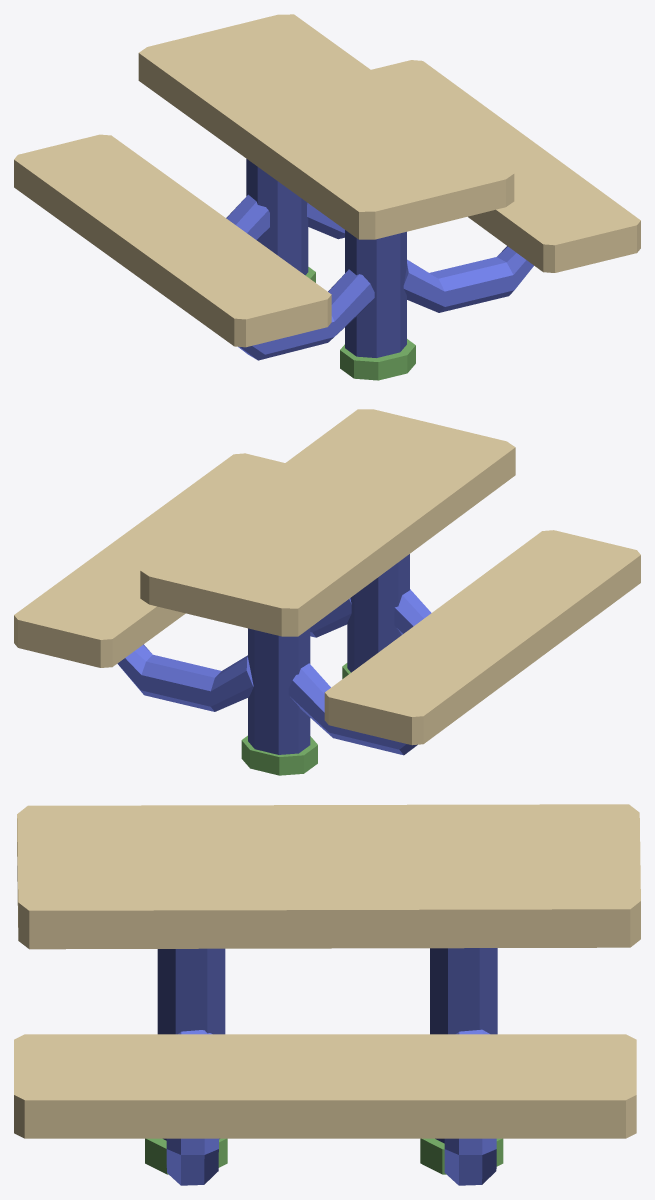
File: cafetableLEGS.fbx
3 views of the same model, one above another, from view 1: azimuth 30°, elevation 25°; view 2: azimuth 150°, elevation 25°; view 3: azimuth 270°, elevation 25° (orthographic). The views are drawn at different scales.
Parts seen in each view (by area): view 1: Cube.006, Cube.005, Cube, Cube.008, Cube.002, Cube.007, Cube.004, Cube.009, Cube.003, Cube.001; view 2: Cube.006, Cube.005, Cube, Cube.007, Cube.001, Cube.008, Cube.003, Cube.010, Cube.004, Cube.002; view 3: Cube.006, Cube, Cube.008, Cube.007, Cube.001, Cube.002, Cube.010, Cube.009.
Boxes of the visible parts, <box> form: Cube.006: <box>138,14,514,239</box>; Cube.005: <box>14,134,331,347</box>; Cube: <box>371,60,640,272</box>; Cube.008: <box>345,230,406,357</box>; Cube.002: <box>403,246,533,312</box>; Cube.007: <box>246,159,308,275</box>; Cube.004: <box>238,269,374,360</box>; Cube.009: <box>340,339,415,380</box>; Cube.003: <box>226,194,269,240</box>; Cube.001: <box>307,203,344,239</box>; Cube.006: <box>140,409,515,636</box>; Cube.005: <box>324,530,640,745</box>; Cube: <box>14,453,284,667</box>; Cube.007: <box>248,628,310,754</box>; Cube.001: <box>117,644,253,711</box>; Cube.008: <box>347,554,409,672</box>; Cube.003: <box>288,663,417,755</box>; Cube.010: <box>241,735,317,775</box>; Cube.004: <box>394,589,431,634</box>; Cube.002: <box>310,598,351,637</box>; Cube.006: <box>17,804,640,949</box>; Cube: <box>14,1034,636,1138</box>; Cube.008: <box>157,948,225,1140</box>; Cube.007: <box>430,948,497,1143</box>; Cube.001: <box>444,1029,496,1185</box>; Cube.002: <box>166,1030,218,1185</box>; Cube.010: <box>420,1138,503,1174</box>; Cube.009: <box>145,1138,227,1174</box>.
Size of the model in its own units: 969 by 488 by 936.
